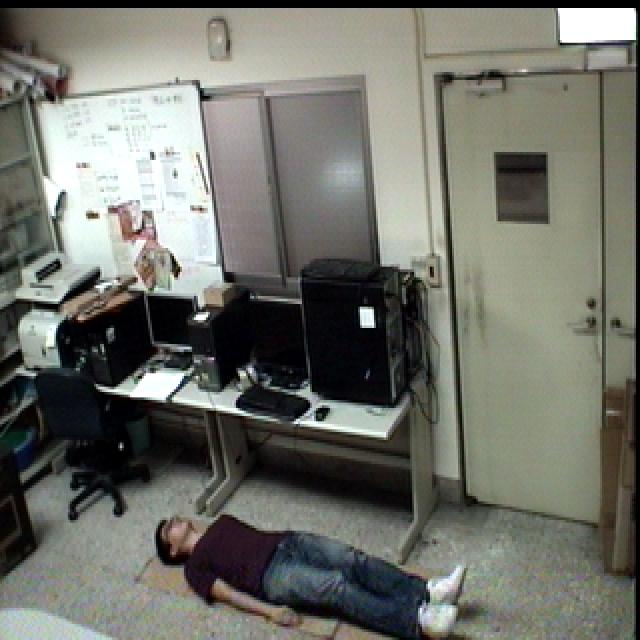lie: (155, 509, 474, 640)
